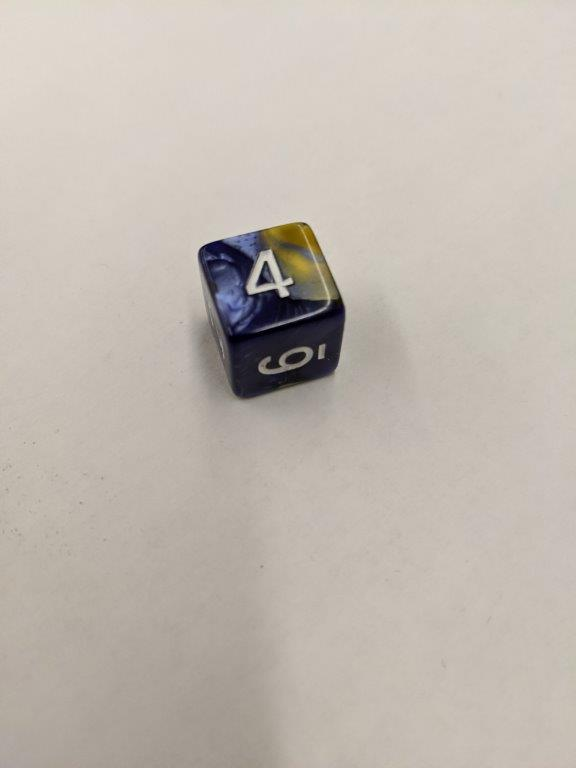d6-4: (197, 219, 347, 399)
